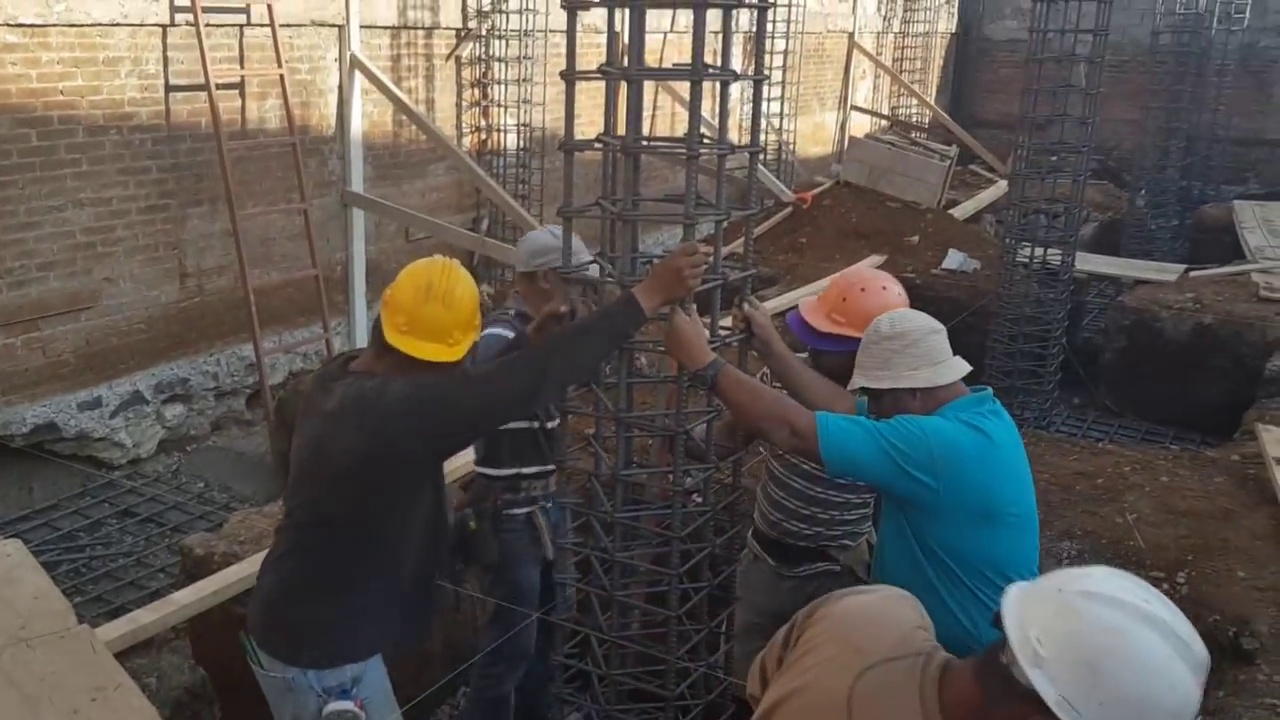helmet: (1012, 573, 1213, 715), (373, 261, 474, 367), (784, 270, 908, 340)
helmet-off: (847, 316, 977, 418), (507, 227, 598, 331)
helmet-on: (920, 574, 1219, 713), (347, 260, 483, 389), (772, 270, 905, 381)
person: (247, 231, 537, 720), (662, 295, 1041, 640), (430, 220, 621, 713), (741, 562, 1222, 716), (730, 264, 902, 615)
